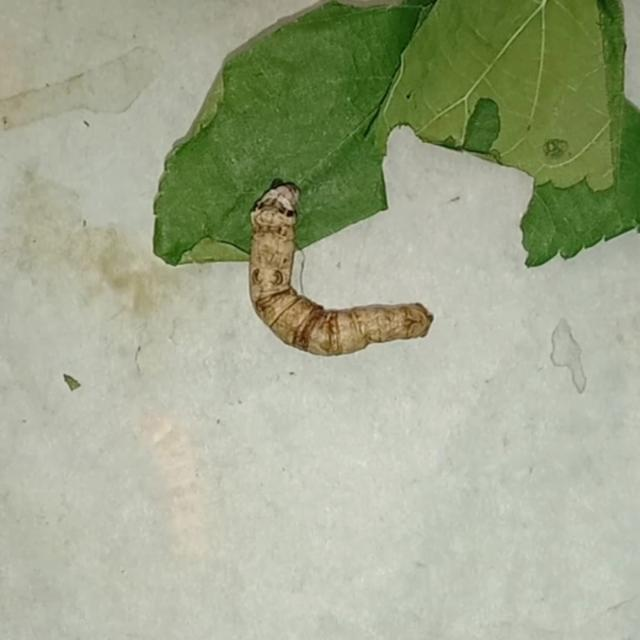Grasserie: (221, 141, 475, 416)
